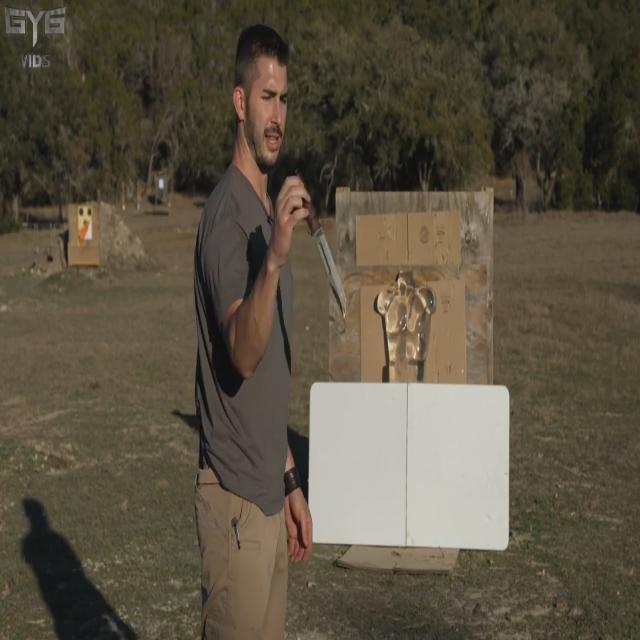knife: (306, 213, 355, 323)
